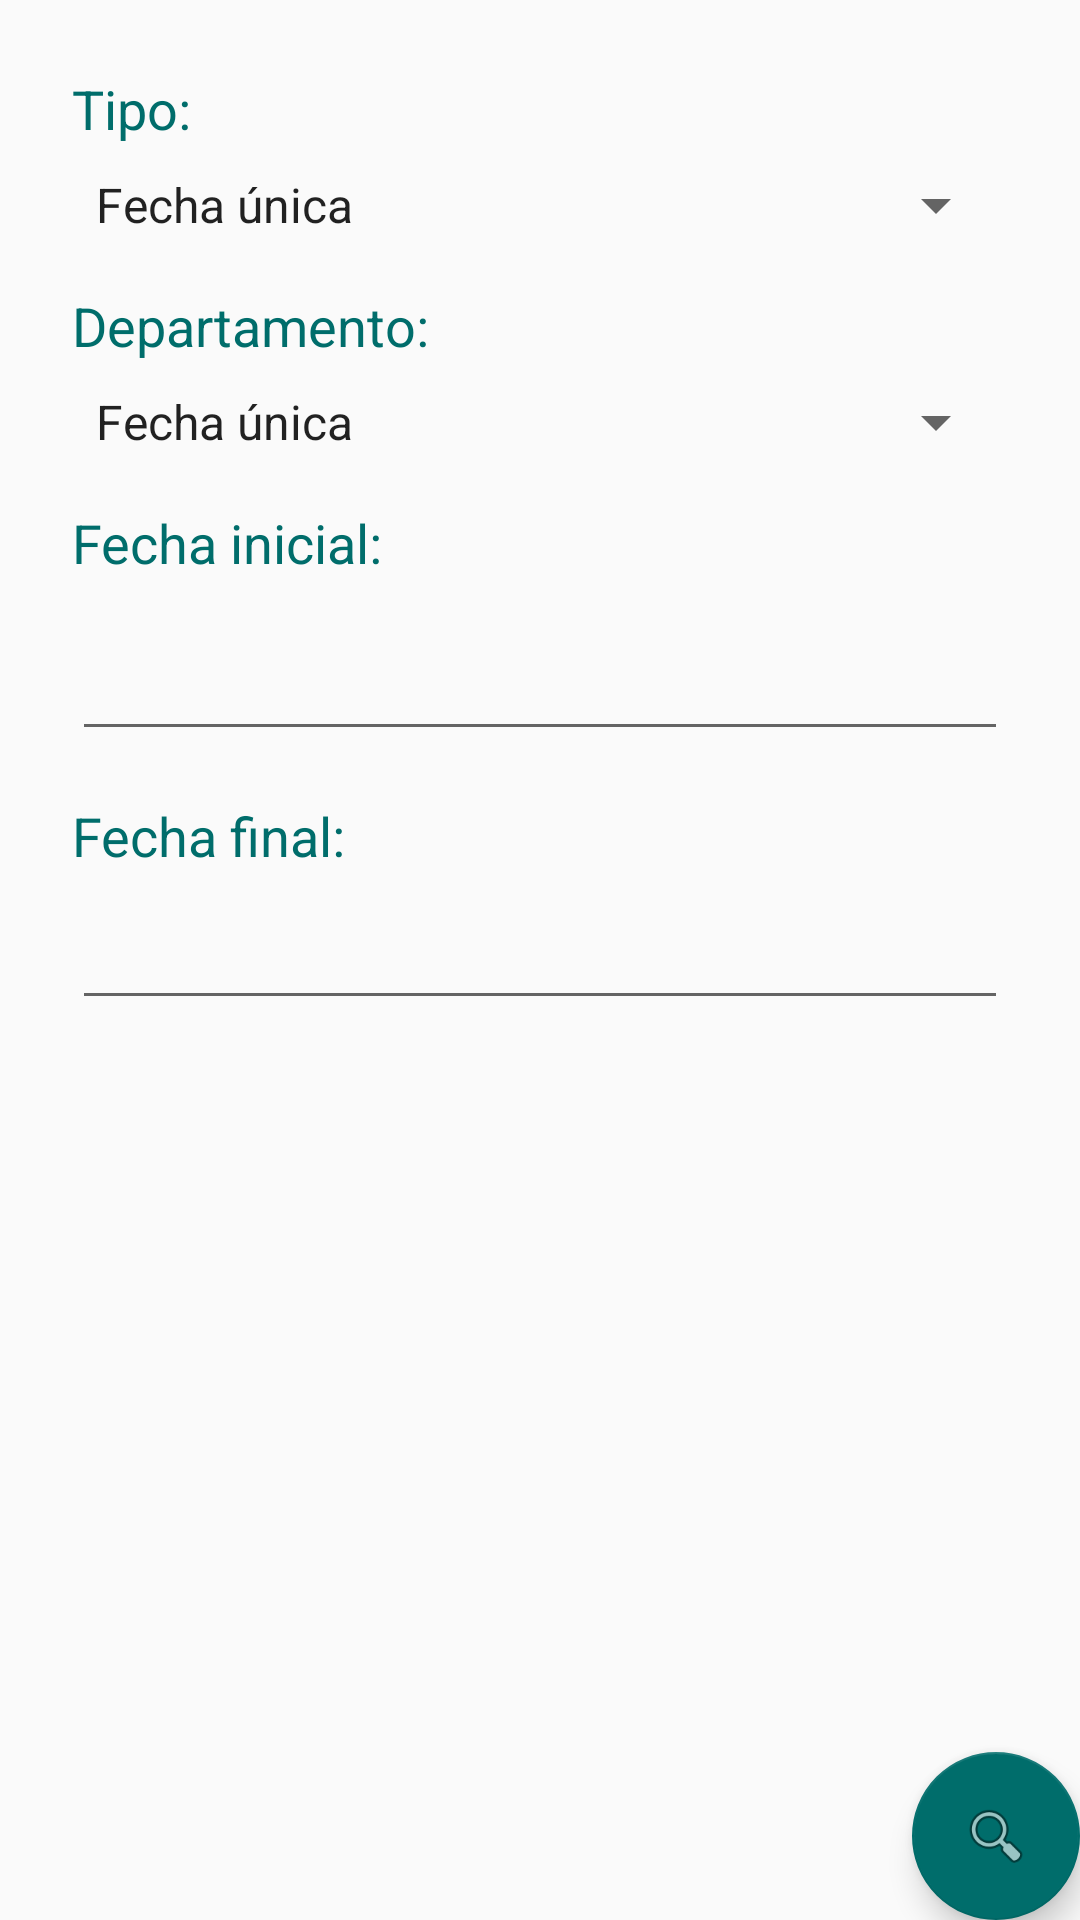

Where icons sit on this 1080w x 1920h app screen, as (left=x1, top=y1, right=x2, bottom=y2):
search: (left=912, top=1752, right=1080, bottom=1920)
